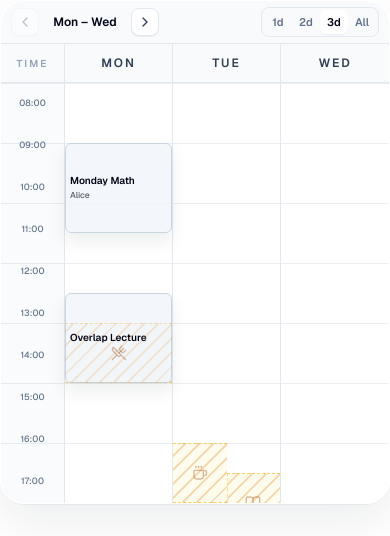
Test: WeekView mobile day controls › handles touch swipe left and right to navigate by 1 day
The image size is (390, 536).
Expected: the text "Mon – Wed" is shown, 53,14 -> 117,30
Press the mouse on the element that starts with "Mon – Wed": {"x": 195, "y": 252} 0,0 -> 389,504
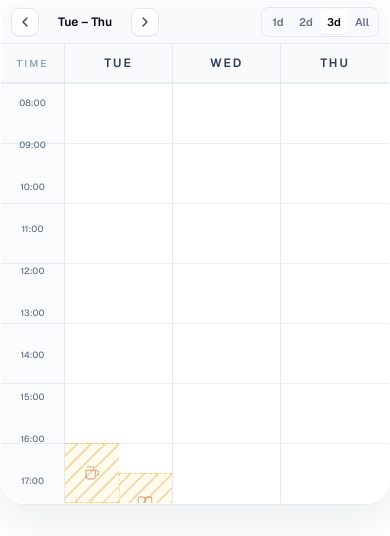
Now the text "Tue – Thu" is shown, box 58,14 -> 112,30
Press the mouse on the element that starts with "Tue – Thu": {"x": 195, "y": 252} 0,0 -> 389,504
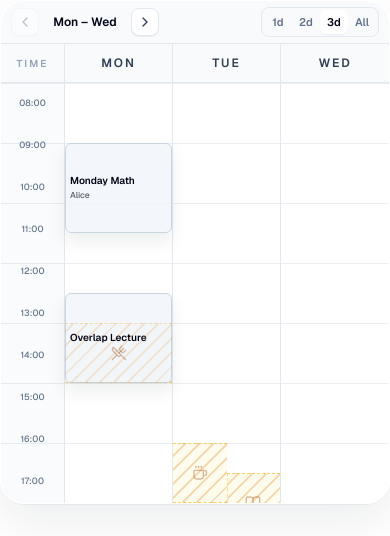
Now the text "Mon – Wed" is shown, box 53,14 -> 117,30
